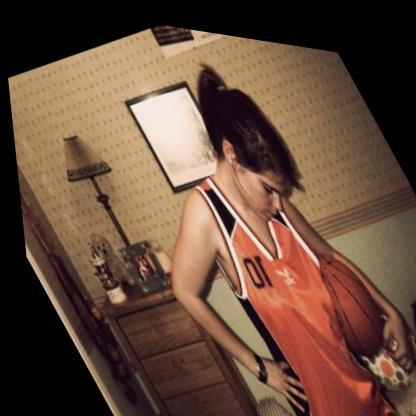basketball: (293, 229, 394, 357)
